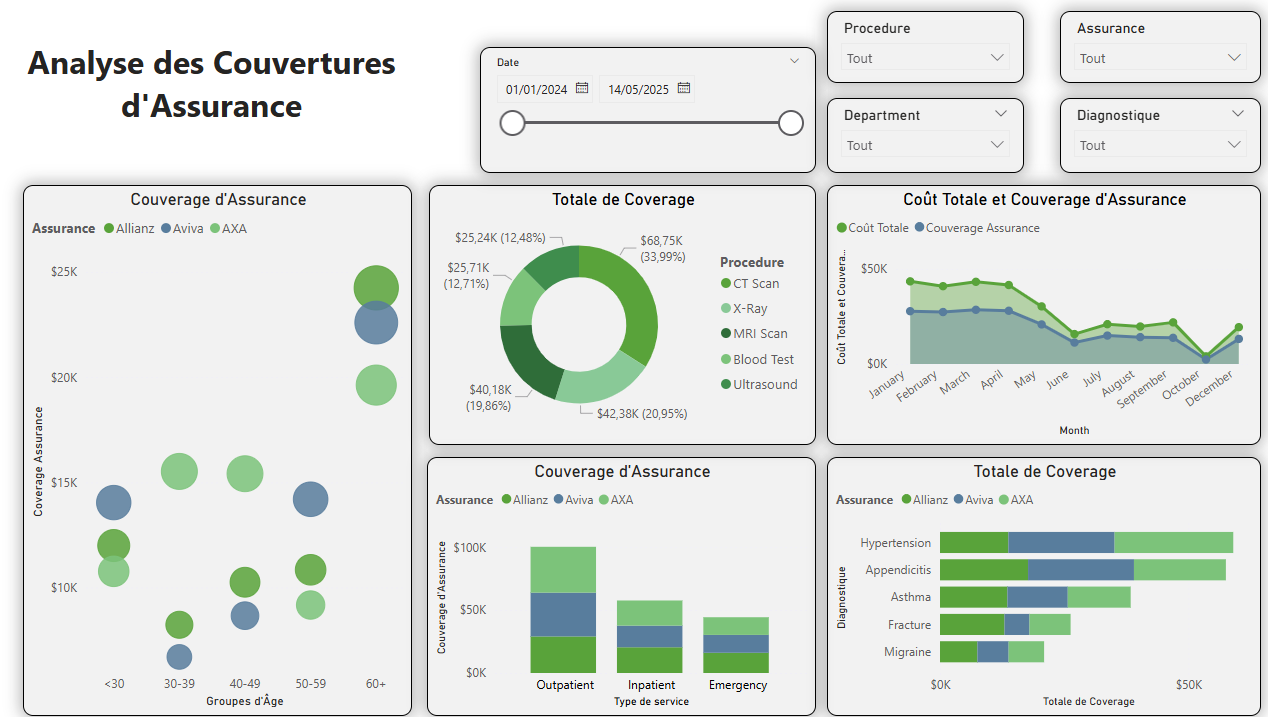

The page's visual inventory and layout, read from the dashboard file:
{"tool":"powerbi","page":{"name":"Couvertures d'Assurance","canvas":[1280,720],"ordinal":5},"visuals":[{"type":"scatterChart","title":"Couverage d''Assurance","fields":{"X":["patients.Groupes d'Âge"],"Series":["insurance.Insurance Provider"],"Y":["Sum(visits.Insurance Coverage)"],"Size":["Sum(visits.Insurance Coverage)"]},"box":[25.7,187.8,389.2,531.5],"z":0},{"type":"columnChart","title":"Couverage d''Assurance","fields":{"Category":["visits.Service Type"],"Y":["Sum(visits.Insurance Coverage)"],"Series":["insurance.Insurance Provider"]},"box":[430,460.3,389.2,258.9],"z":1000},{"type":"barChart","title":"Totale de Coverage","fields":{"Y":["visits.Total Coverage par Diagnostic"],"Series":["insurance.Insurance Provider"],"Category":["diagnoses.Diagnosis"]},"box":[829.8,460.3,434.6,258.9],"z":2000},{"type":"areaChart","title":"Coût Totale et Couverage d''Assurance","fields":{"Category":["visits.Date of Visit.Variation.Date Hierarchy.Month"],"Y":["Sum(visits.Coût Total)","Sum(visits.Insurance Coverage)"]},"box":[829.8,187.8,434.6,260.4],"z":3000},{"type":"donutChart","title":"Totale de Coverage","fields":{"Category":["procedures.Procedure"],"Y":["visits.Total Coverage par Diagnostic"]},"box":[431.5,187.8,387.6,260.4],"z":4000},{"type":"slicer","fields":{"Values":["visits.Date of Visit"]},"box":[482.9,50.4,335.7,125.2],"z":5000},{"type":"slicer","fields":{"Values":["insurance.Insurance Provider"]},"box":[1063,13.6,201.4,72.7],"z":6000},{"type":"slicer","fields":{"Values":["procedures.Procedure"]},"box":[829.8,13.6,196.8,72.7],"z":7000},{"type":"slicer","fields":{"Values":["diagnoses.Diagnosis"]},"box":[1063,101.5,201.4,74.2],"z":8000},{"type":"slicer","fields":{"Values":["departments.Department"]},"box":[829.8,101.5,196.8,74.2],"z":9000},{"type":"textbox","box":[12.5,3.3,403.3,158.3],"z":10000}]}

Visuals, with their boxes in screenshot pixels (x1, y1, x2, y2), scaled from the page's 1280x720 canvas onto the 1268x717 screenshot:
"Couverage d''Assurance" scatterChart: select_region(25, 187, 411, 716)
"Couverage d''Assurance" columnChart: select_region(426, 458, 812, 716)
"Totale de Coverage" barChart: select_region(822, 458, 1253, 716)
"Coût Totale et Couverage d''Assurance" areaChart: select_region(822, 187, 1253, 446)
"Totale de Coverage" donutChart: select_region(427, 187, 811, 446)
slicer - visits.Date of Visit: select_region(478, 50, 811, 175)
slicer - insurance.Insurance Provider: select_region(1053, 14, 1253, 86)
slicer - procedures.Procedure: select_region(822, 14, 1017, 86)
slicer - diagnoses.Diagnosis: select_region(1053, 101, 1253, 175)
slicer - departments.Department: select_region(822, 101, 1017, 175)
textbox: select_region(12, 3, 412, 161)
